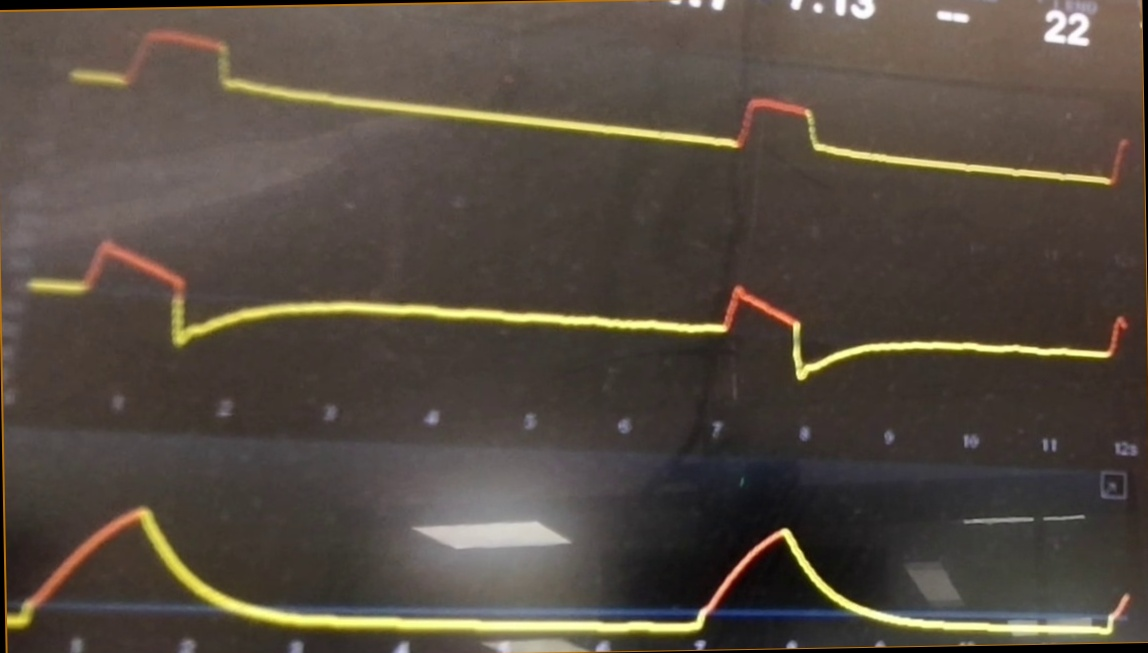Normal Flow: (26, 231, 1128, 385)
Normal Volume: (8, 486, 1129, 642)
